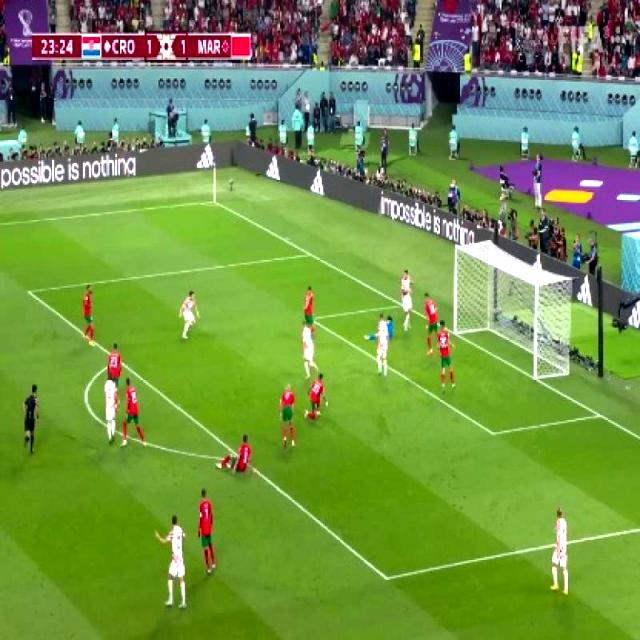bigarea_bottom_inner: (374, 558, 402, 597)
bigarea_top_inner: (22, 283, 36, 300)
bigarea_top_outter: (304, 248, 316, 260)
corner: (206, 197, 217, 206)
smallarea_bottom_inner: (484, 420, 502, 446)
smallarea_bottom_outter: (591, 405, 606, 423)
smallarea_top_inner: (311, 312, 319, 328)
